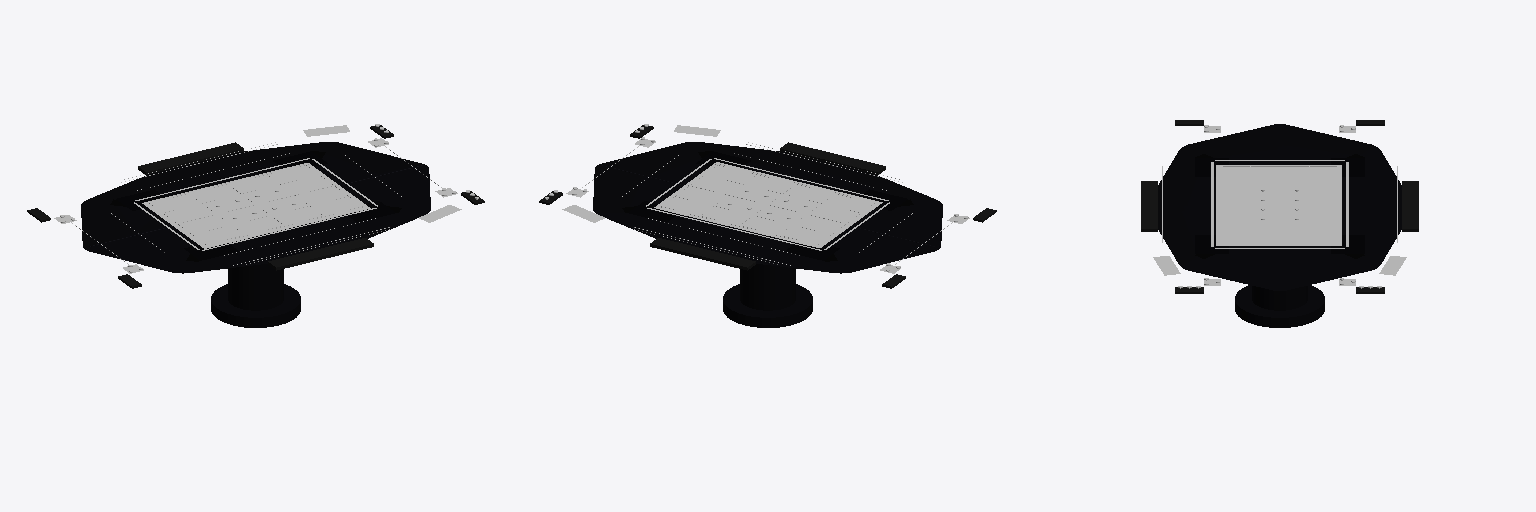
File: sci_fi_table_Collider.obj
3 renders of one model, left to right at view 1: azimuth 30°, elevation 25°; view 2: azimuth 150°, elevation 25°; view 3: azimuth 270°, elevation 25°, orthographic.
Parts seen in each view (by area): view 1: Primary_Surface, Display_Grid, Table_Leg, Table_Base, Control_Interface_back, Control_Interface_front; view 2: Primary_Surface, Display_Grid, Table_Leg, Table_Base, Control_Interface_front, Control_Interface_back; view 3: Primary_Surface, Display_Grid, Table_Base, Table_Leg, Control_Interface_front, Control_Interface_back, Main_Display.
Boxes of the visible parts, box(x1,y1,x2,y2) form: Primary_Surface: box(81, 142, 430, 273); Display_Grid: box(146, 164, 365, 245); Table_Leg: box(228, 264, 283, 310); Table_Base: box(211, 284, 300, 327); Control_Interface_back: box(268, 238, 373, 270); Control_Interface_front: box(138, 142, 243, 174); Primary_Surface: box(593, 142, 942, 273); Display_Grid: box(658, 164, 877, 245); Table_Leg: box(740, 264, 795, 310); Table_Base: box(723, 284, 812, 327); Control_Interface_front: box(650, 238, 755, 270); Control_Interface_back: box(780, 142, 885, 174); Primary_Surface: box(1158, 124, 1401, 290); Display_Grid: box(1221, 167, 1338, 243); Table_Base: box(1235, 285, 1324, 327); Table_Leg: box(1252, 286, 1307, 310); Control_Interface_front: box(1402, 181, 1418, 231); Control_Interface_back: box(1141, 181, 1157, 231); Main_Display: box(1219, 165, 1341, 245).
Bounding box in the file's own units: 3.6 × 1.03 × 2.45.